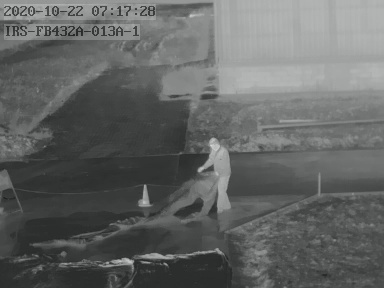person: (197, 138, 231, 210)
